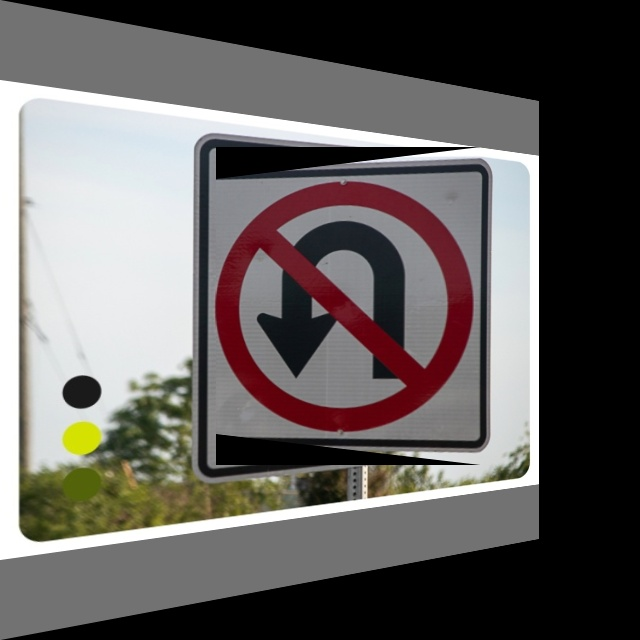U_Turn_Prohibited: (216, 147, 481, 465)
